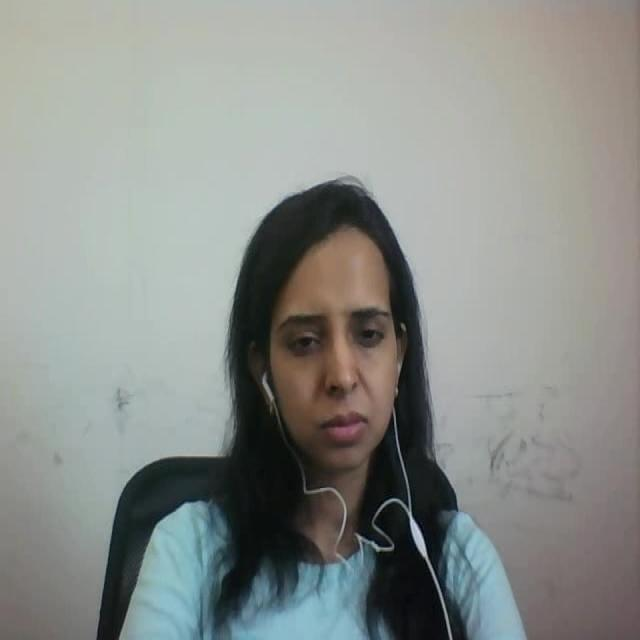Bored: (206, 157, 458, 521)
